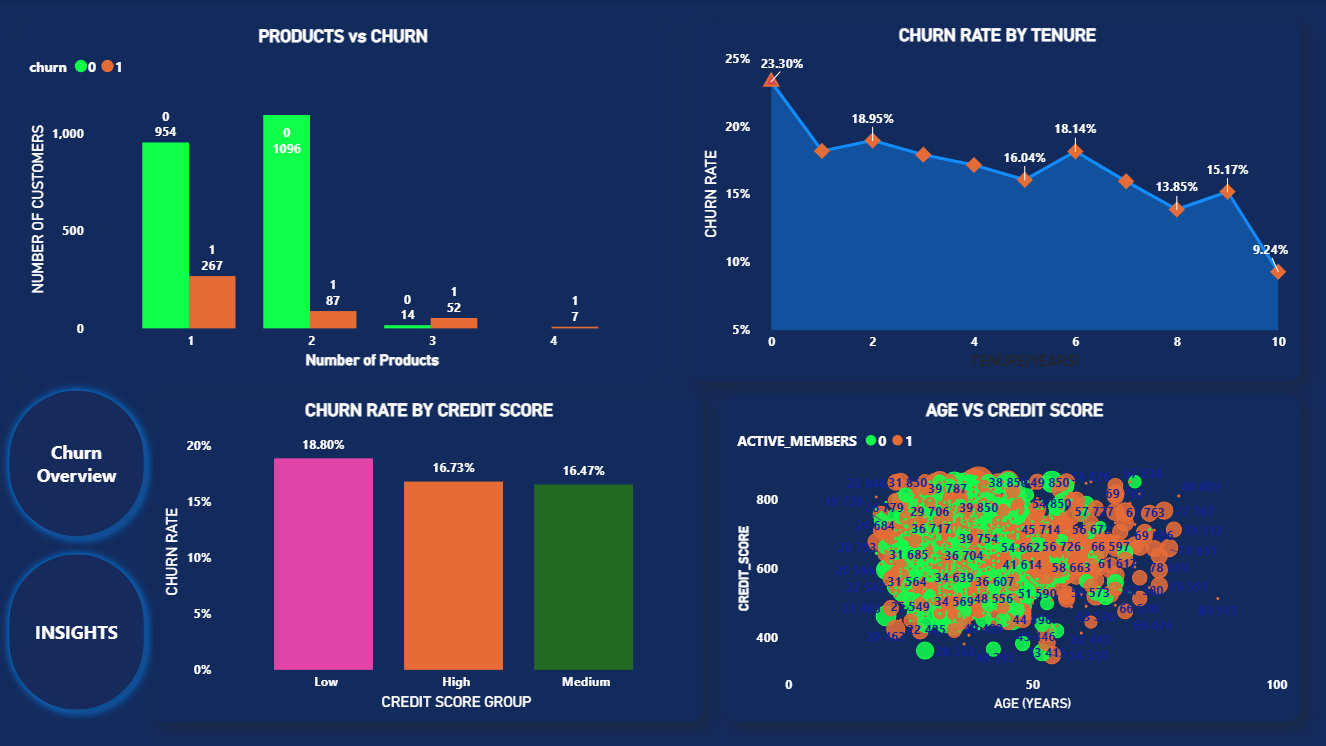

The dashboard page shown, as its layout file describes it:
{"tool":"powerbi","page":{"name":"MORE ANALYSIS","canvas":[1280,720],"ordinal":1},"visuals":[{"type":"clusteredColumnChart","title":"PRODUCTS vs CHURN","fields":{"Category":["Bank Customer Churn Prediction.products_number"],"Y":["CountNonNull(Bank Customer Churn Prediction.customer_id)"],"Series":["Bank Customer Churn Prediction.churn"]},"box":[16.7,17.9,623.8,350],"z":0},{"type":"lineChart","title":"CHURN RATE BY TENURE","fields":{"Category":["Bank Customer Churn Prediction.tenure"],"Y":["Bank Customer Churn Prediction.Churn Rate"]},"box":[666.7,17.9,588.1,350],"z":1000},{"type":"clusteredColumnChart","title":"CHURN RATE BY CREDIT SCORE","fields":{"Category":["Bank Customer Churn Prediction.CreditGroup"],"Y":["Bank Customer Churn Prediction.Churn Rate"]},"box":[147.6,379.8,531,316.7],"z":2000},{"type":"scatterChart","title":"AGE VS CREDIT SCORE","fields":{"X":["Bank Customer Churn Prediction.age"],"Y":["Bank Customer Churn Prediction.credit_score"],"Series":["Bank Customer Churn Prediction.active_member"],"Size":["Sum(Bank Customer Churn Prediction.balance)"]},"box":[701.2,379.8,553.6,316.7],"z":3000},{"type":"actionButton","box":[0,367.9,147.6,158.3],"z":4000},{"type":"actionButton","box":[0,526.2,147.6,167.9],"z":5000}]}

Visuals, with their boxes in screenshot pixels (x1, y1, x2, y2), scaled from the page's 1280x720 canvas onto the 1326x746 screenshot:
"PRODUCTS vs CHURN" clusteredColumnChart: <region>17, 19, 664, 381</region>
"CHURN RATE BY TENURE" lineChart: <region>691, 19, 1300, 381</region>
"CHURN RATE BY CREDIT SCORE" clusteredColumnChart: <region>153, 394, 703, 722</region>
"AGE VS CREDIT SCORE" scatterChart: <region>726, 394, 1300, 722</region>
actionButton: <region>0, 381, 153, 545</region>
actionButton: <region>0, 545, 153, 719</region>
